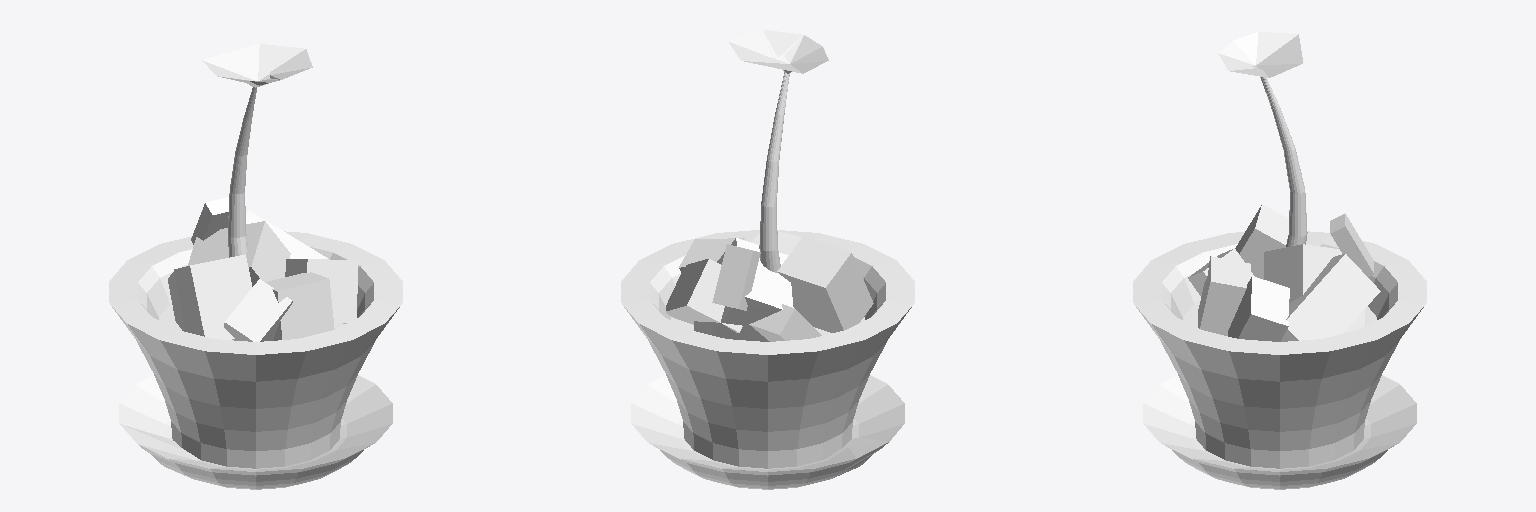
Rendered from GORSHOK.obj.
3 views of the same model, side by side, from view 1: azimuth 30°, elevation 25°; view 2: azimuth 150°, elevation 25°; view 3: azimuth 270°, elevation 25° (orthographic).
Visible parts, largest first — view 1: Sphere001; view 2: Sphere001; view 3: Sphere001.
Boxes of the visible parts, x1,y1,x2,y2 form: Sphere001: [109, 44, 402, 489]; Sphere001: [621, 30, 914, 489]; Sphere001: [1133, 32, 1426, 489].
Size of the model in its own units: 64.28 by 95.18 by 63.3.